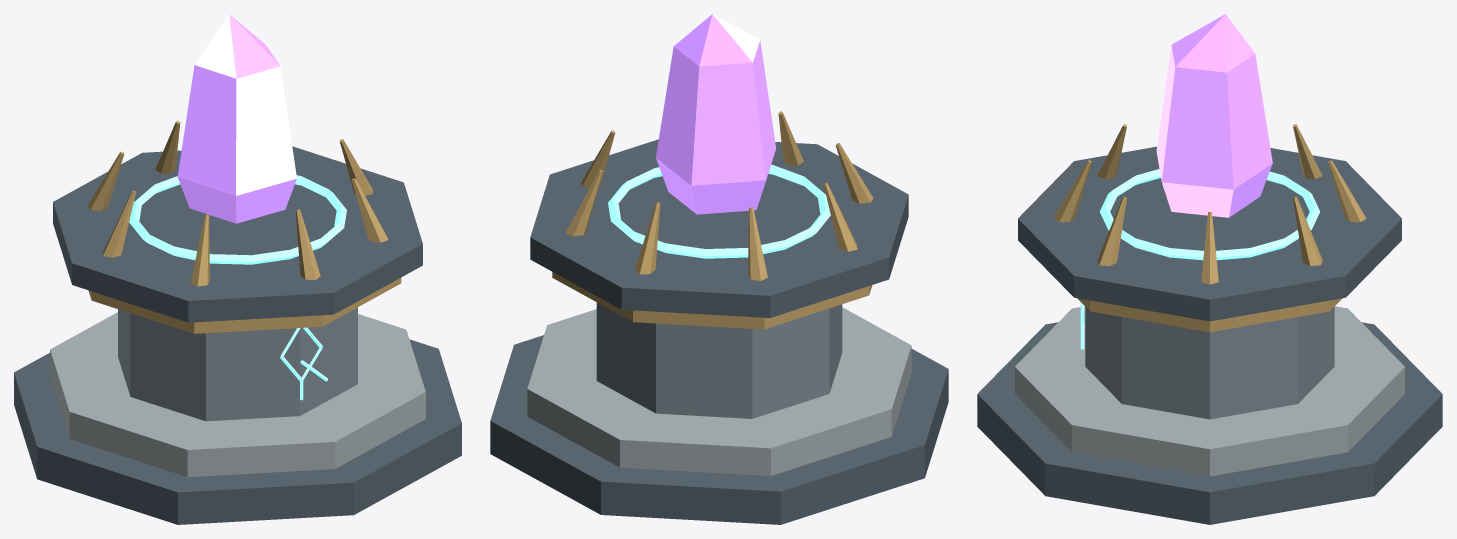
Rendered from boss_heart_altar.glb.
The picture shows the model from 3 angles, left to right: view 1: azimuth 30°, elevation 25°; view 2: azimuth 150°, elevation 25°; view 3: azimuth 270°, elevation 25°; orthographic projection. The views are drawn at different scales.
Parts seen in each view (by area): view 1: boss_heart_altar_Geometry; view 2: boss_heart_altar_Geometry; view 3: boss_heart_altar_Geometry.
Part boxes in pixels (left/top/right/bottom): boss_heart_altar_Geometry: left=14, top=14, right=461, bottom=524; boss_heart_altar_Geometry: left=490, top=14, right=948, bottom=524; boss_heart_altar_Geometry: left=977, top=14, right=1442, bottom=524.
Bounding box in the file's own units: 3.1 × 3.03 × 3.1.
